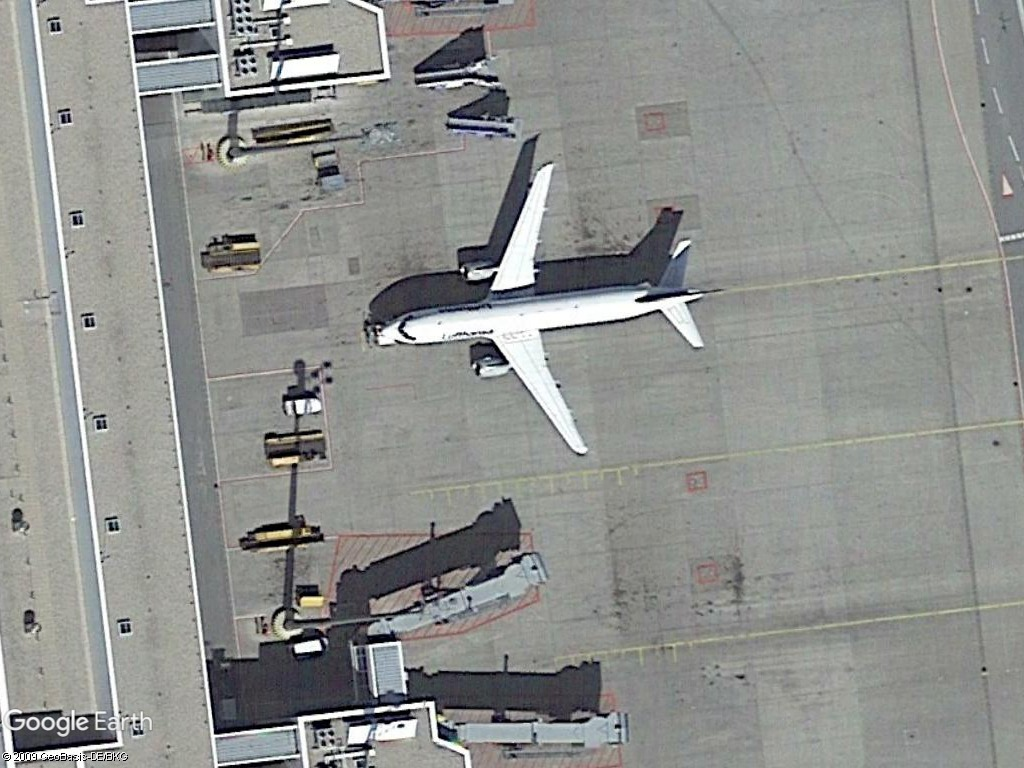airliner: (362, 160, 712, 465)
stairtruck: (408, 50, 504, 98), (442, 109, 526, 147)
